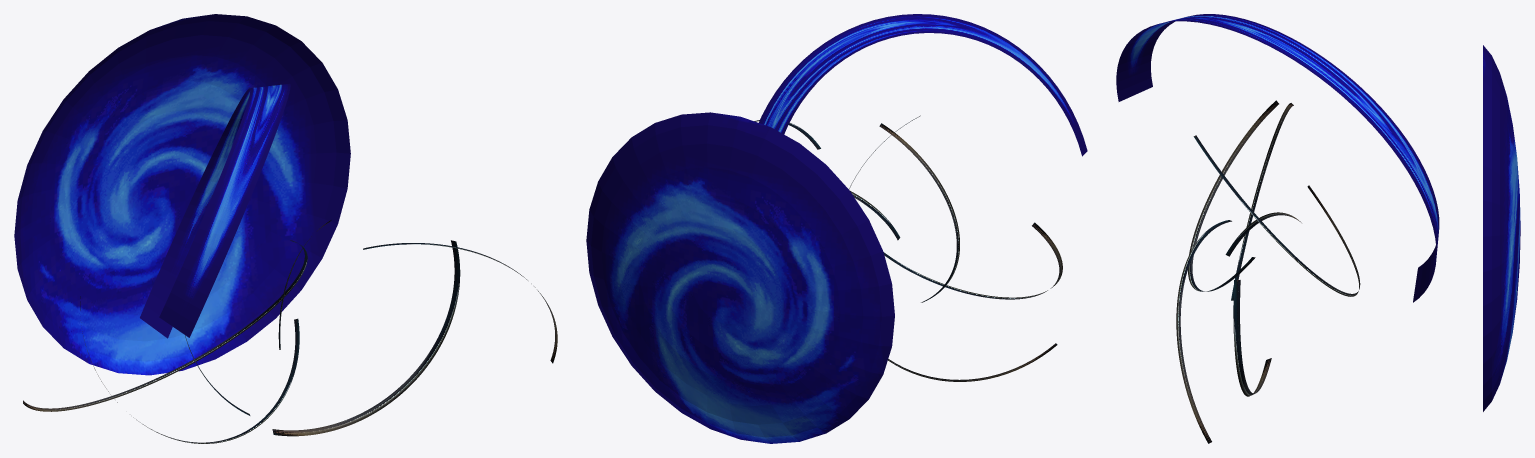
Rendered from tx_godword_tiankonghe.obj.
The picture shows the model from 3 angles, left to right: view 1: azimuth 30°, elevation 25°; view 2: azimuth 150°, elevation 25°; view 3: azimuth 270°, elevation 25°; orthographic projection. The views are drawn at different scales.
Visible parts, largest first — view 1: Sphere01, Plane30, Plane02, Plane07, Plane05; view 2: Sphere01, Plane30, Plane01, Plane05, Plane07; view 3: Sphere01, Plane30, Plane05, Plane06, Plane07, Plane02, Plane01.
Part boxes in pixels (x1,y1,x2,y2): Sphere01: (14, 14, 350, 375); Plane30: (140, 83, 290, 338); Plane02: (272, 240, 460, 436); Plane07: (23, 240, 307, 411); Plane05: (80, 296, 299, 443); Sphere01: (586, 112, 894, 443); Plane30: (759, 14, 1087, 156); Plane01: (879, 123, 959, 302); Plane05: (883, 222, 1062, 299); Plane07: (849, 115, 1057, 381); Sphere01: (1483, 45, 1520, 411); Plane30: (1116, 14, 1439, 302); Plane05: (1188, 100, 1278, 291); Plane06: (1176, 220, 1231, 443); Plane07: (1193, 135, 1360, 296); Plane02: (1233, 280, 1271, 396); Plane01: (1231, 103, 1293, 300).
Size of the model in its own units: 4046 by 3004 by 3135.
